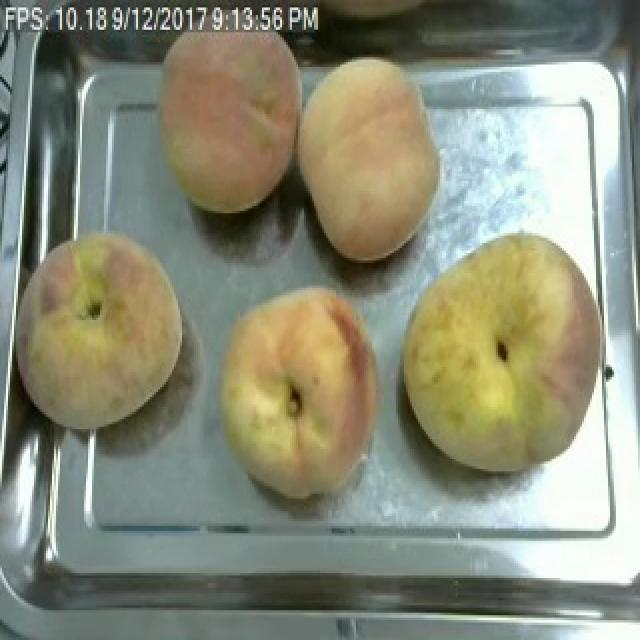Fruit: (390, 223, 614, 481), (208, 275, 390, 506), (10, 216, 192, 437), (144, 7, 316, 226), (290, 47, 450, 271)
